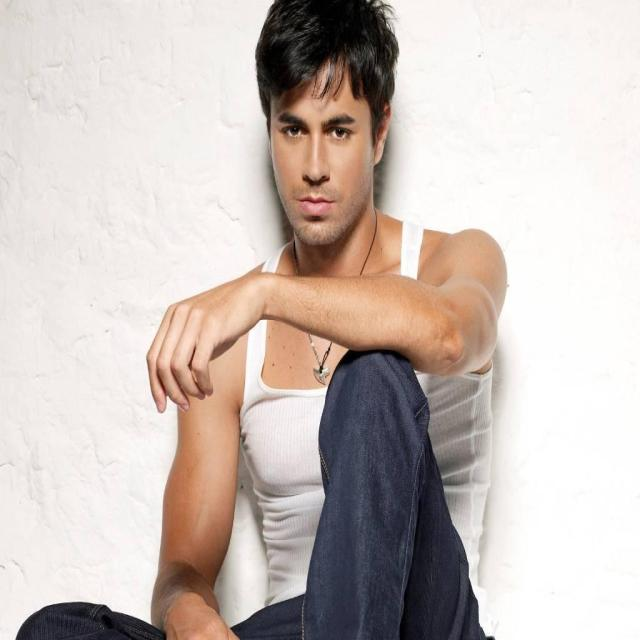Face: (260, 51, 386, 250)
